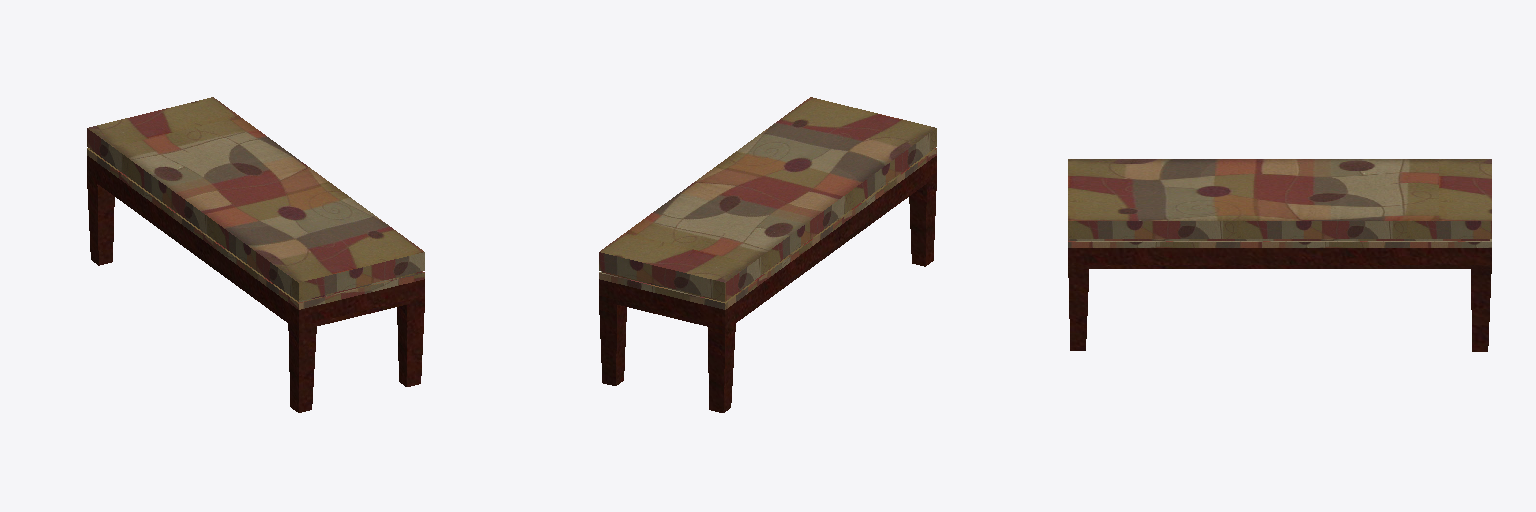
3 views of the same model, side by side, from view 1: azimuth 30°, elevation 25°; view 2: azimuth 150°, elevation 25°; view 3: azimuth 270°, elevation 25° (orthographic).
Visible parts, largest first — view 1: Mesh1 Better_Bench1 Model; view 2: Mesh1 Better_Bench1 Model; view 3: Mesh1 Better_Bench1 Model.
Part boxes in pixels (x1,y1,x2,y2): Mesh1 Better_Bench1 Model: (87, 97, 424, 412); Mesh1 Better_Bench1 Model: (599, 97, 936, 412); Mesh1 Better_Bench1 Model: (1068, 159, 1491, 351).
Size of the model in its own units: 18.01 by 17.96 by 52.19.
Materials: 3 (2 with a texture image).